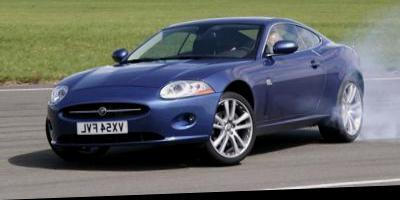License_Plate: (80, 120, 131, 139)
